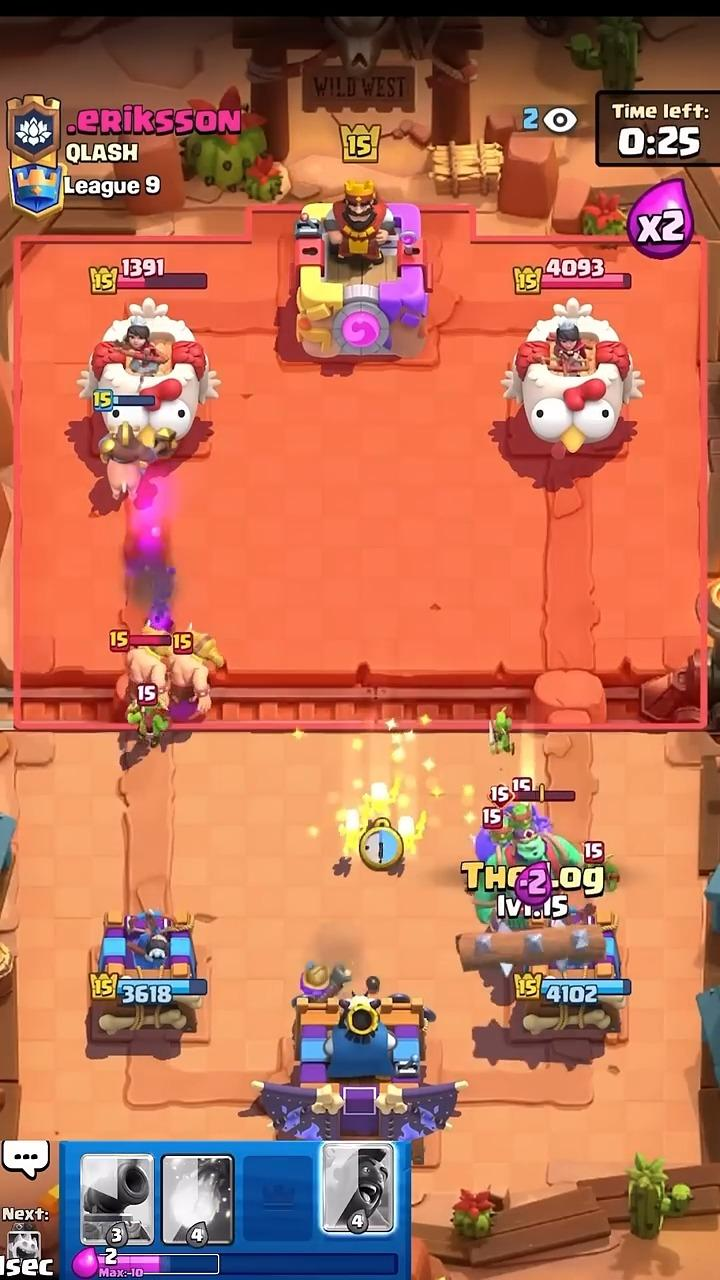elite barbarians: (169, 627, 224, 714), (126, 644, 166, 700)
goblin: (127, 700, 169, 746), (490, 707, 513, 753), (601, 862, 619, 892)
goblin giant: (473, 804, 589, 931)
hog rider: (100, 422, 176, 500)
log: (456, 922, 604, 971)
musketeer: (300, 962, 351, 1001)
skeletons: (338, 777, 426, 857)
